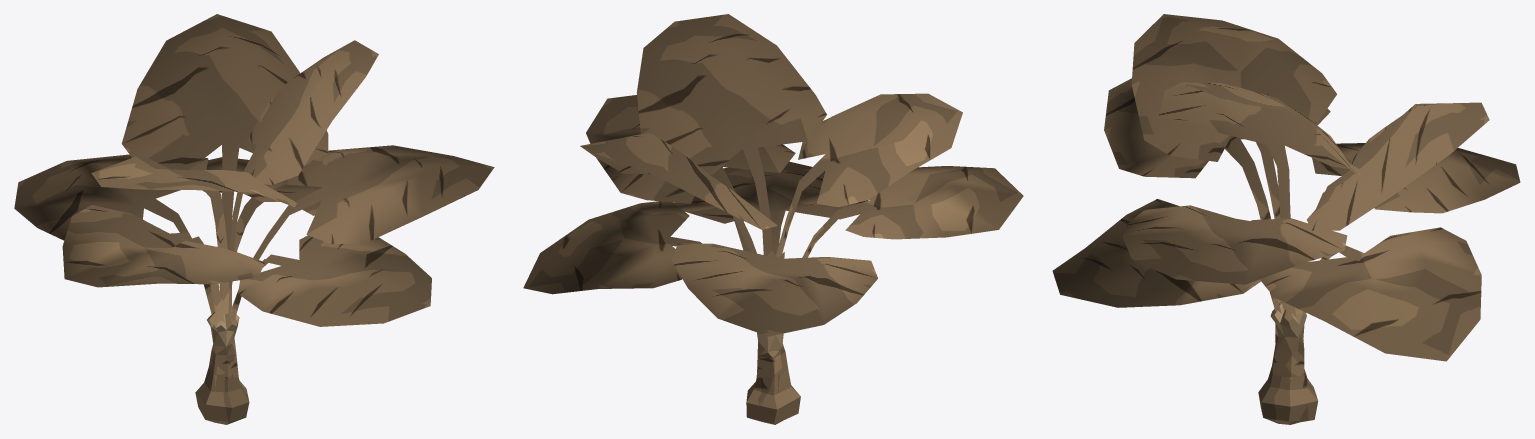
The model's file is SM_Env_Tree_Palm_Small_01.fbx.
The picture shows the model from 3 angles, left to right: view 1: azimuth 30°, elevation 25°; view 2: azimuth 150°, elevation 25°; view 3: azimuth 270°, elevation 25°; orthographic projection. The views are drawn at different scales.
Parts seen in each view (by area): view 1: SM_Env_Tree_Palm_Small_01_LOD0; view 2: SM_Env_Tree_Palm_Small_01_LOD0; view 3: SM_Env_Tree_Palm_Small_01_LOD0.
Part boxes in pixels (bbox=[...]): SM_Env_Tree_Palm_Small_01_LOD0: bbox=[14, 14, 494, 424]; SM_Env_Tree_Palm_Small_01_LOD0: bbox=[523, 14, 1023, 424]; SM_Env_Tree_Palm_Small_01_LOD0: bbox=[1052, 14, 1520, 424].
Size of what is drawn, in the model's own units: 508 by 421 by 455.
